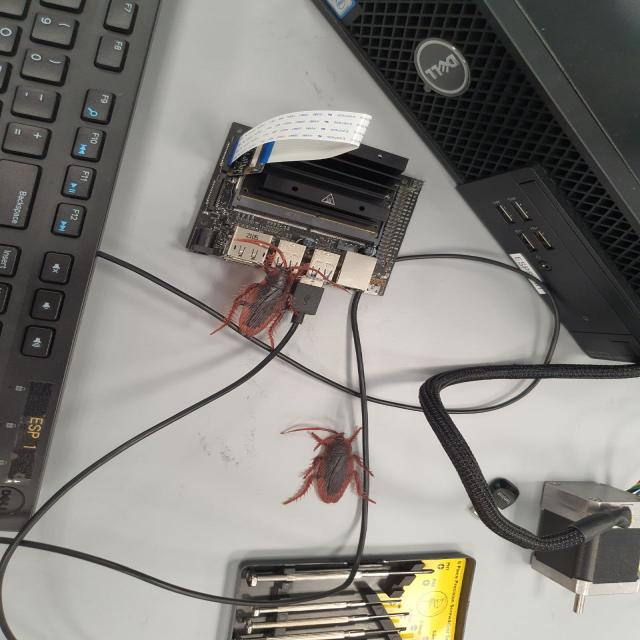Cockroach: (211, 237, 335, 356), (282, 425, 377, 511)
